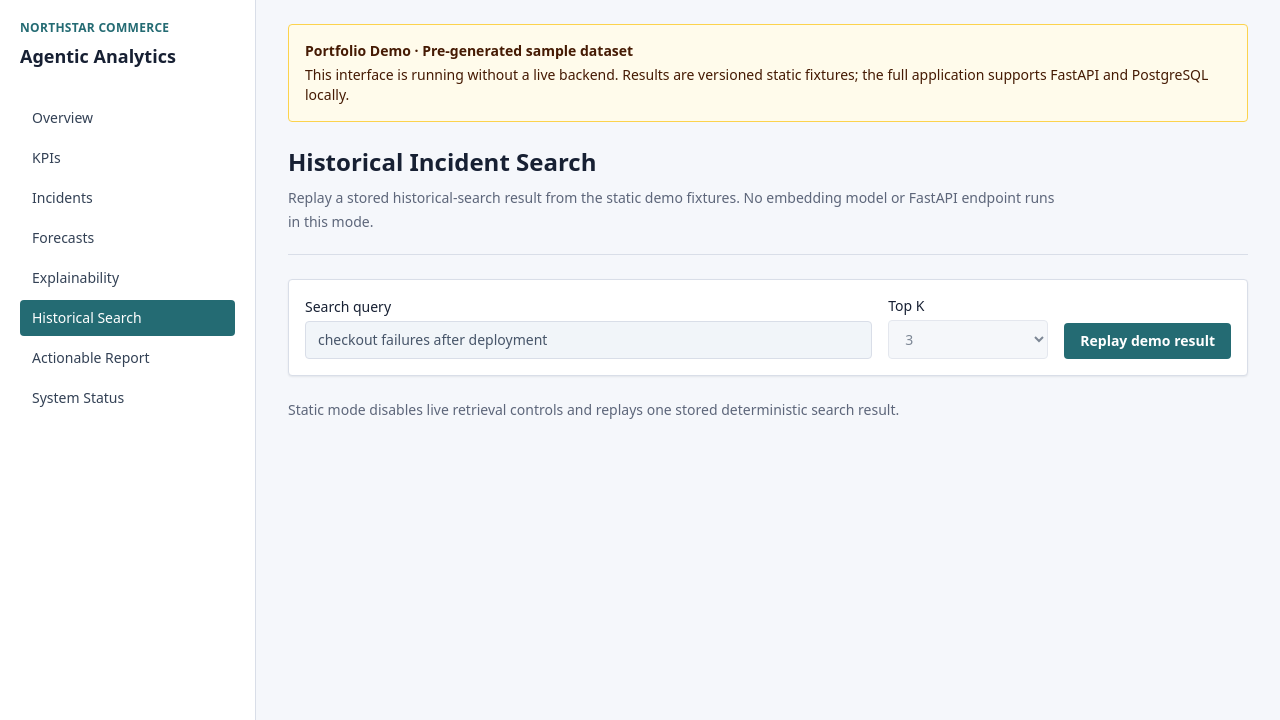
Test: static mode UI behavior › uses a truthful replay action for historical search
expect the field labelled "Search query" is disabled: met, box [305,321,872,359]
expect the text "disables live retrieval controls" is shown: met, box [288,400,899,419]
Click the button "Replay demo result".
click(1148, 341)  # box [1064,323,1231,359]
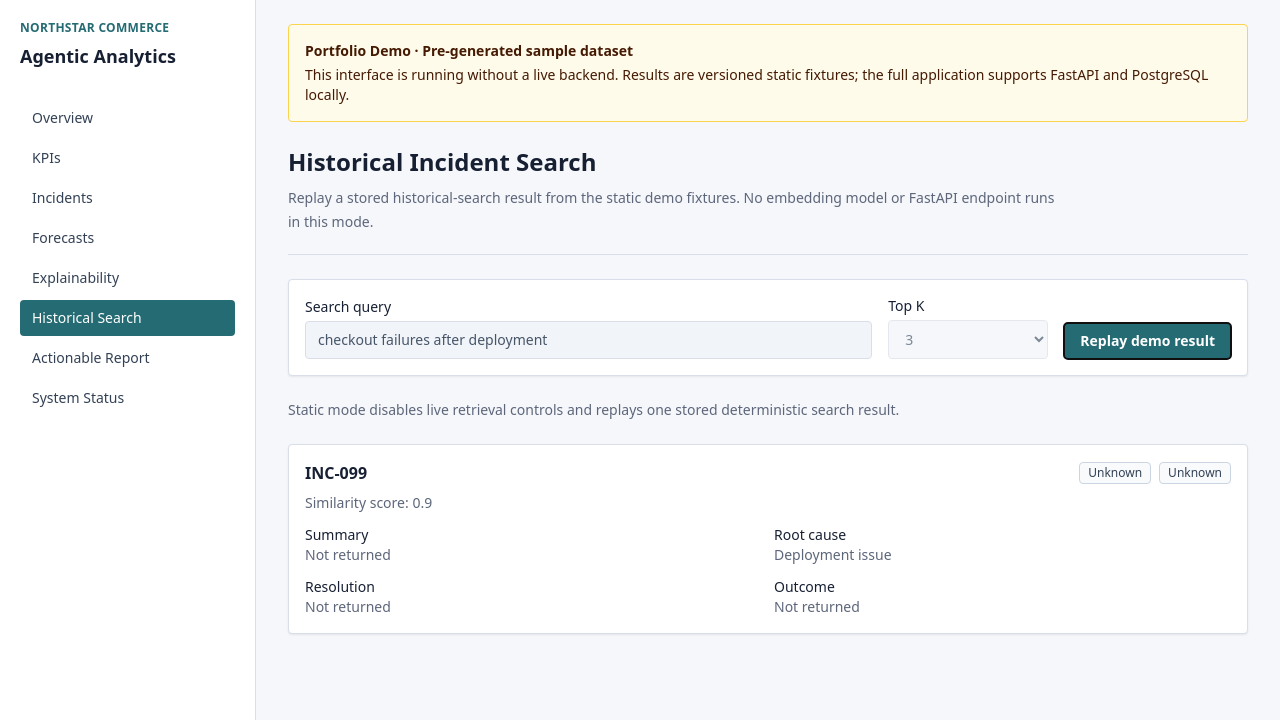
expect the heading "INC-099" is shown: met, box [305,461,367,485]
